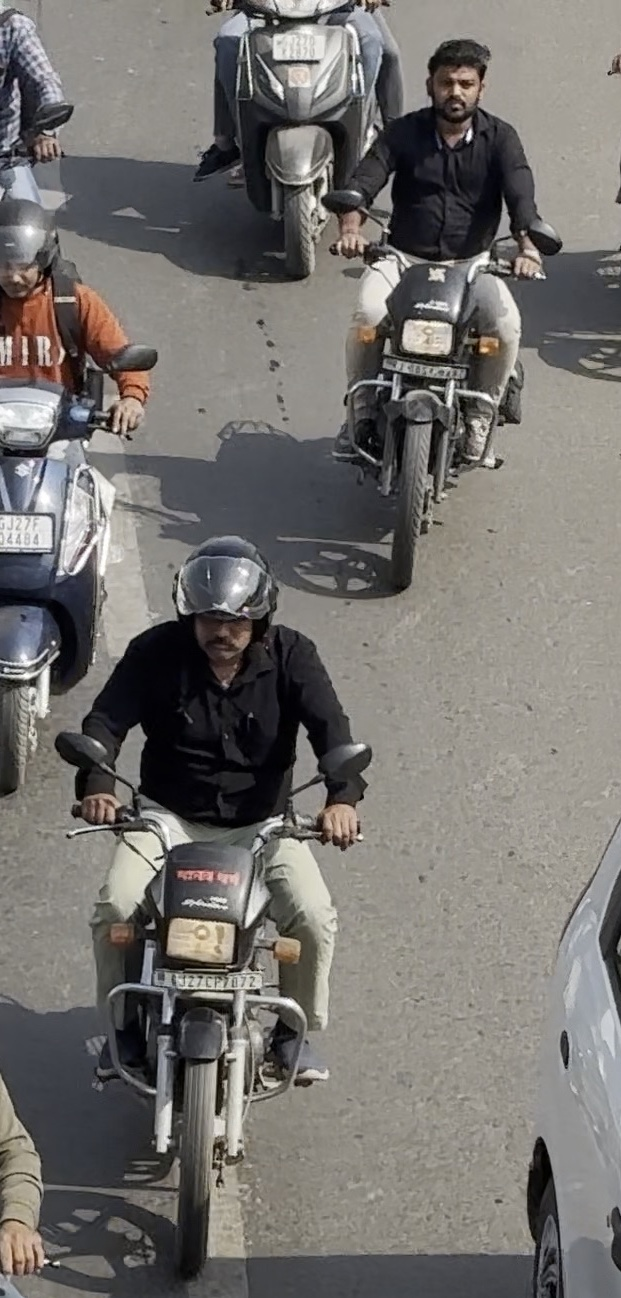BikeWithRider: (46, 525, 380, 1279), (318, 37, 555, 581), (0, 187, 161, 797)
Helmet: (165, 525, 279, 674), (0, 194, 62, 309)
NoHelmet: (417, 39, 501, 132)
